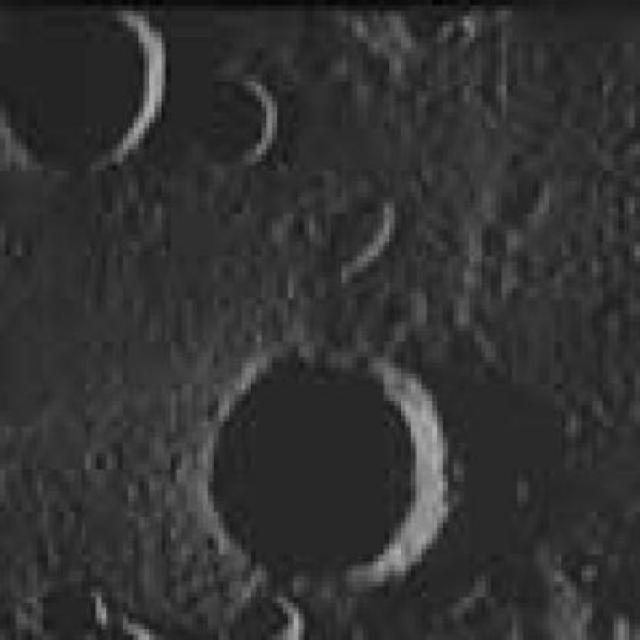crater: (199, 346, 447, 589), (1, 0, 162, 166), (196, 78, 275, 158)
